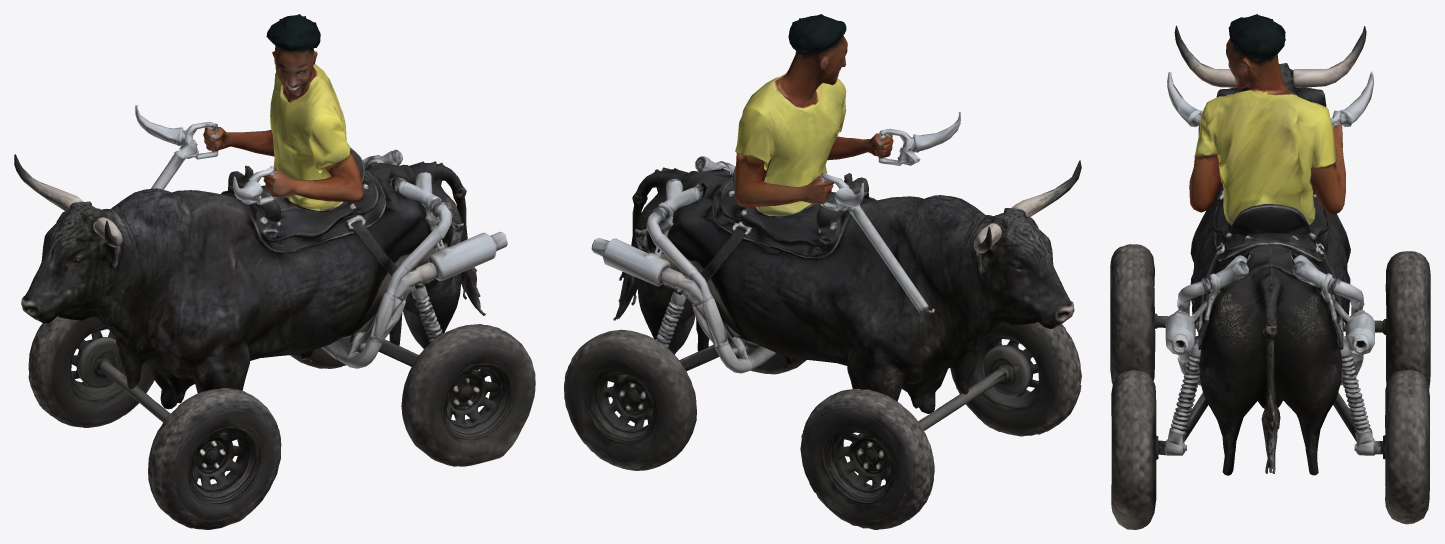
Rendered from ansem.glb.
3 renders of one model, left to right at view 1: azimuth 30°, elevation 25°; view 2: azimuth 150°, elevation 25°; view 3: azimuth 270°, elevation 25°, orthographic. The views are drawn at different scales.
Parts seen in each view (by area): view 1: tripo_node_6f332806-f097-4ce7-8b80-fb4b22cf9908; view 2: tripo_node_6f332806-f097-4ce7-8b80-fb4b22cf9908; view 3: tripo_node_6f332806-f097-4ce7-8b80-fb4b22cf9908.
Part boxes in pixels (left/top/right/bottom): tripo_node_6f332806-f097-4ce7-8b80-fb4b22cf9908: left=14, top=14, right=535, bottom=529; tripo_node_6f332806-f097-4ce7-8b80-fb4b22cf9908: left=564, top=14, right=1081, bottom=529; tripo_node_6f332806-f097-4ce7-8b80-fb4b22cf9908: left=1110, top=14, right=1430, bottom=529.
Bounding box in the file's own units: 0.9818 × 0.8732 × 0.5747.
1 material, 1 textured.
